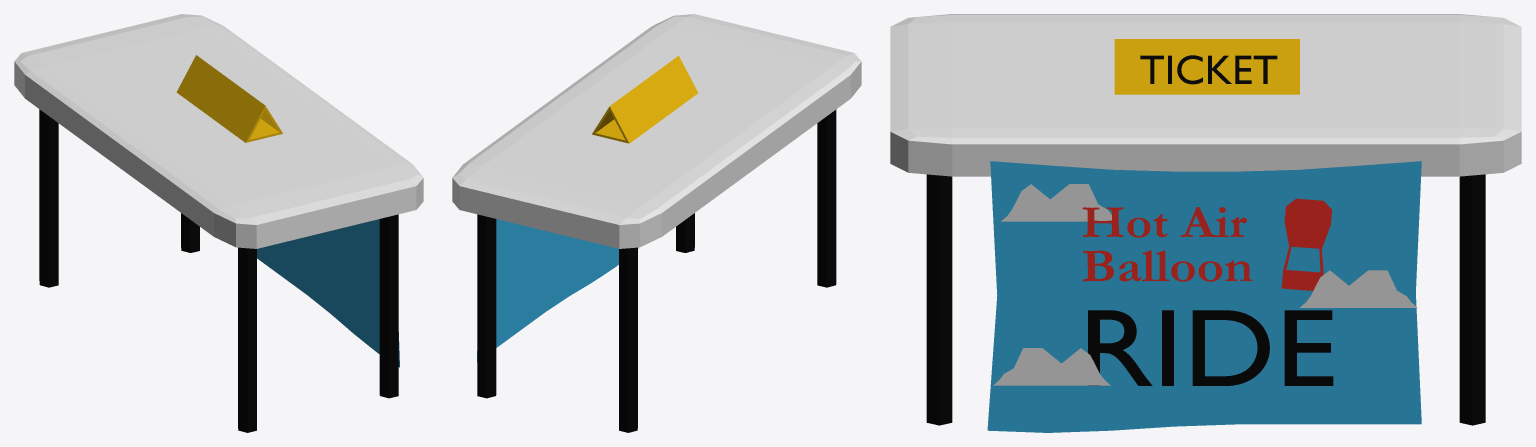
The model's file is Loket.fbx.
3 renders of one model, left to right at view 1: azimuth 30°, elevation 25°; view 2: azimuth 150°, elevation 25°; view 3: azimuth 270°, elevation 25°, orthographic. The views are drawn at different scales.
Parts seen in each view (by area): view 1: Cube.096, Cube.091; view 2: Cube.096, Cube.091; view 3: Cube.096, Cube.091, Text.033, Plane.120, Plane.121, Plane.118, Plane.122, Text.032, Text.031, Text.034.
Part boxes in pixels (x1,y1,x2,y2): Cube.096: (14, 14, 423, 432); Cube.091: (176, 55, 282, 142); Cube.096: (452, 14, 861, 432); Cube.091: (592, 55, 698, 143); Cube.096: (890, 14, 1521, 432); Cube.091: (1114, 39, 1299, 94); Text.033: (1088, 310, 1333, 385); Plane.120: (993, 348, 1110, 385); Plane.121: (1300, 270, 1417, 307); Plane.118: (1281, 198, 1331, 290); Plane.122: (1001, 184, 1111, 221); Text.032: (1083, 250, 1252, 281); Text.031: (1082, 207, 1246, 237); Text.034: (1140, 55, 1277, 84).
Size of the model in its own units: 104 by 127 by 212.
